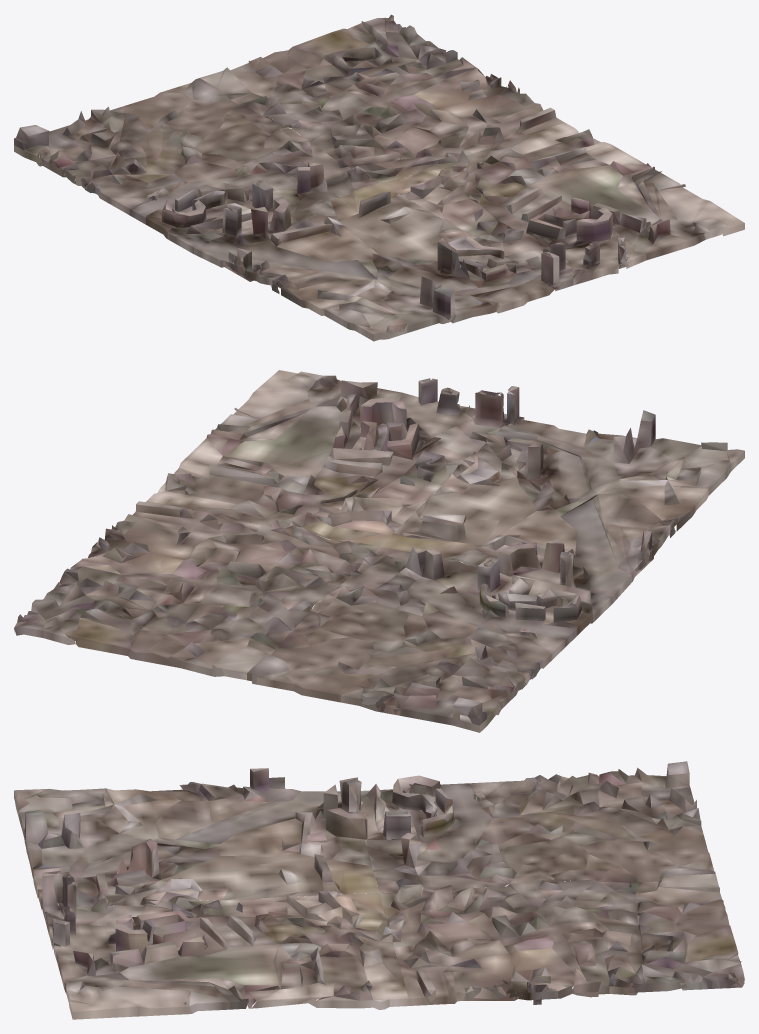
3 views of the same model, one above another, from view 1: azimuth 30°, elevation 25°; view 2: azimuth 150°, elevation 25°; view 3: azimuth 270°, elevation 25° (orthographic). The views are drawn at different scales.
Parts seen in each view (by area): view 1: Mesh_0; view 2: Mesh_0; view 3: Mesh_0.
Boxes of the visible parts, x1=… form: Mesh_0: x1=14, y1=14, x2=744, y2=341; Mesh_0: x1=14, y1=370, x2=744, y2=732; Mesh_0: x1=14, y1=761, x2=744, y2=1019.
Size of the model in its own units: 1064 by 94.28 by 1318.
Materials: 1 (1 with a texture image).
